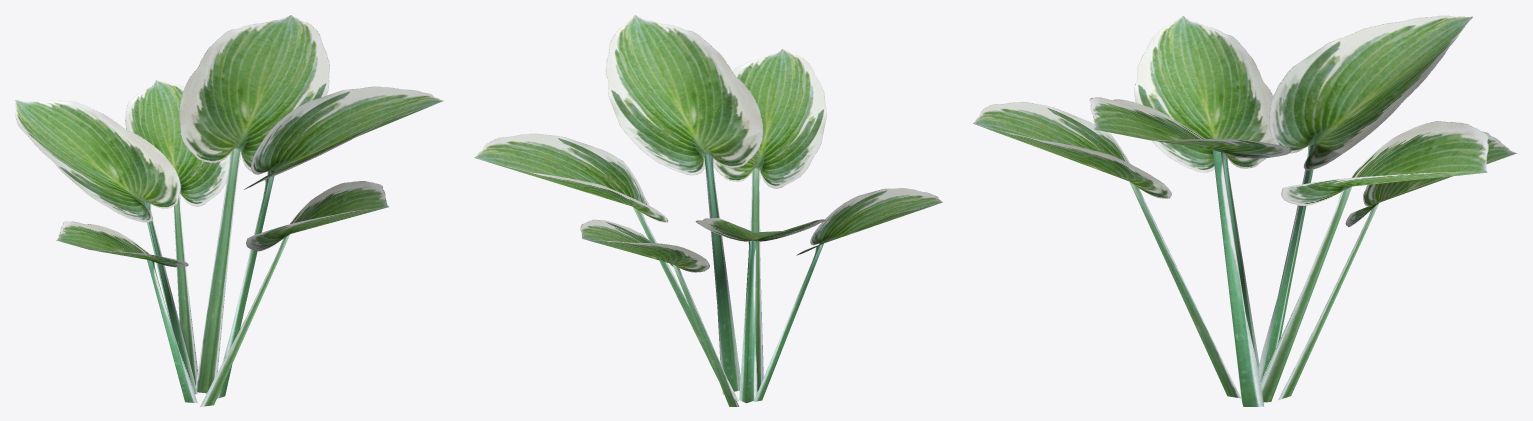
File: plant_small_wg_05D.fbx
3 views of the same model, side by side, from view 1: azimuth 30°, elevation 25°; view 2: azimuth 150°, elevation 25°; view 3: azimuth 270°, elevation 25° (orthographic). The views are drawn at different scales.
Parts seen in each view (by area): view 1: plant_small_wg_05D; view 2: plant_small_wg_05D; view 3: plant_small_wg_05D.
Part boxes in pixels (x1,y1,x2,y2): plant_small_wg_05D: [15, 15, 443, 406]; plant_small_wg_05D: [474, 15, 942, 406]; plant_small_wg_05D: [973, 15, 1516, 406].
Bounding box in the file's own units: 49.46 × 39.11 × 51.83.
